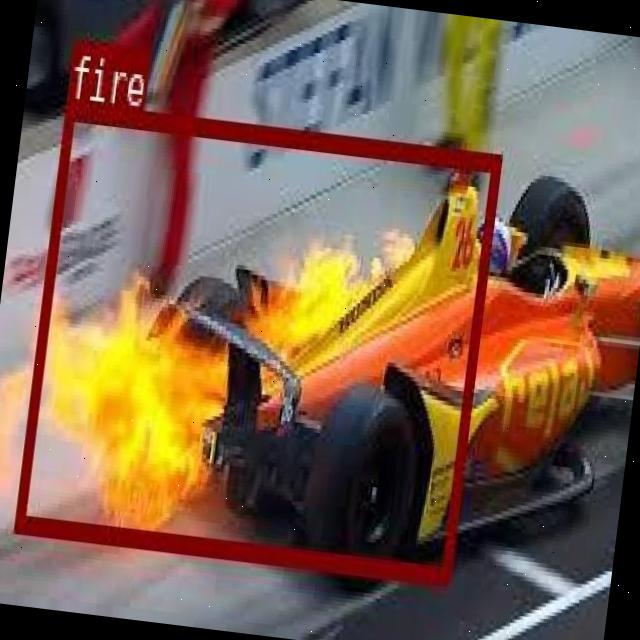fire: (12, 98, 499, 580)
